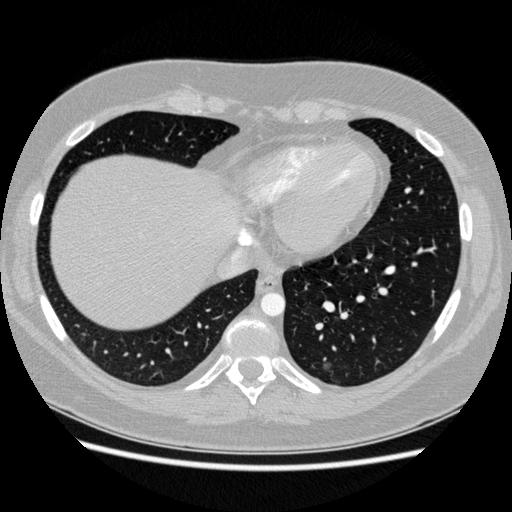nodule: (321, 360, 334, 373)
